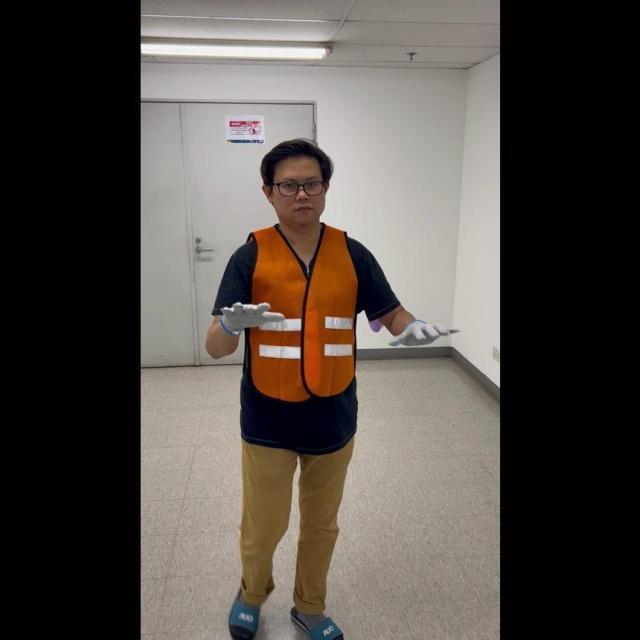gloved_hand: (215, 292, 287, 337), (384, 312, 457, 352)
